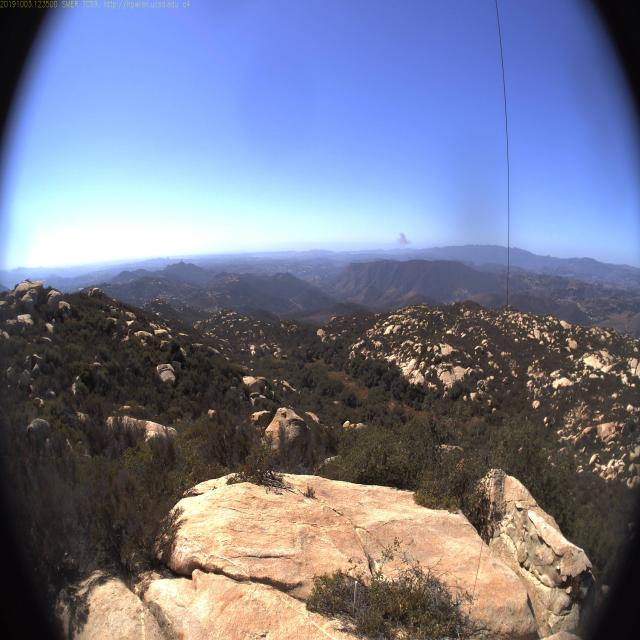smoke: (385, 230, 412, 258), (388, 228, 412, 254)
